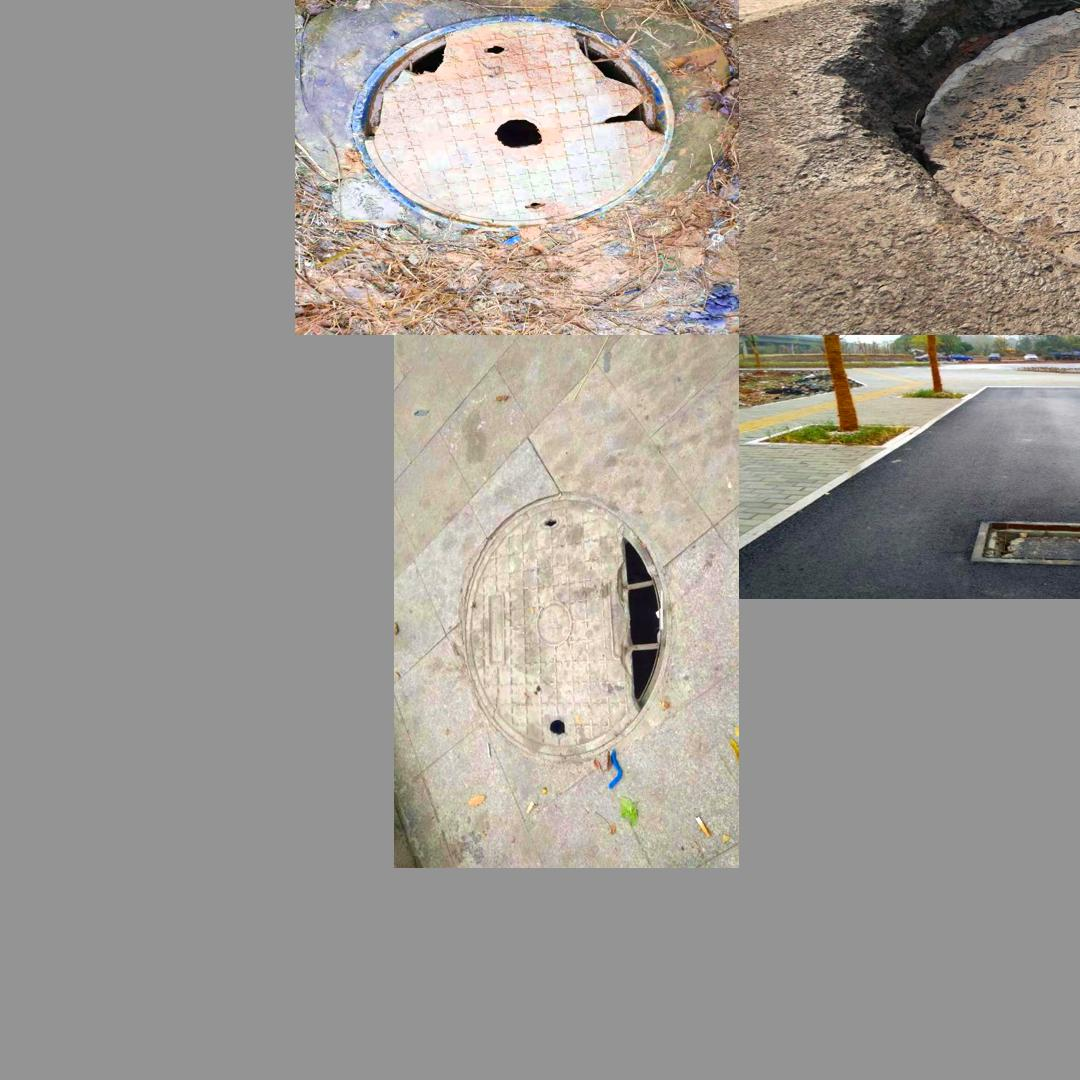broke: (351, 15, 678, 233), (452, 478, 681, 772), (917, 0, 1080, 292), (969, 519, 1080, 568)
